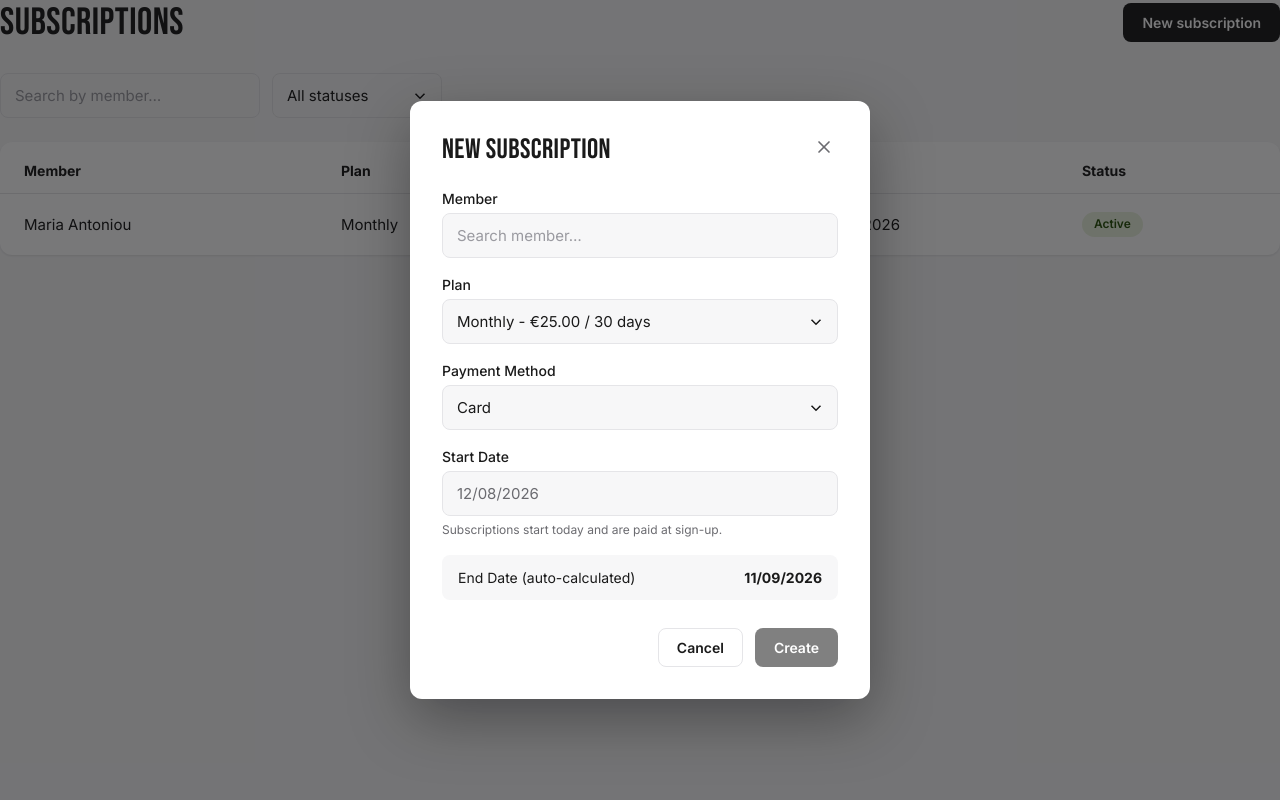
Test: New Subscription flow › blocks a second active subscription for a member who already has one
Type "Maria" into the dropdown labelled "Member" at (640, 236), box [442, 213, 838, 258]
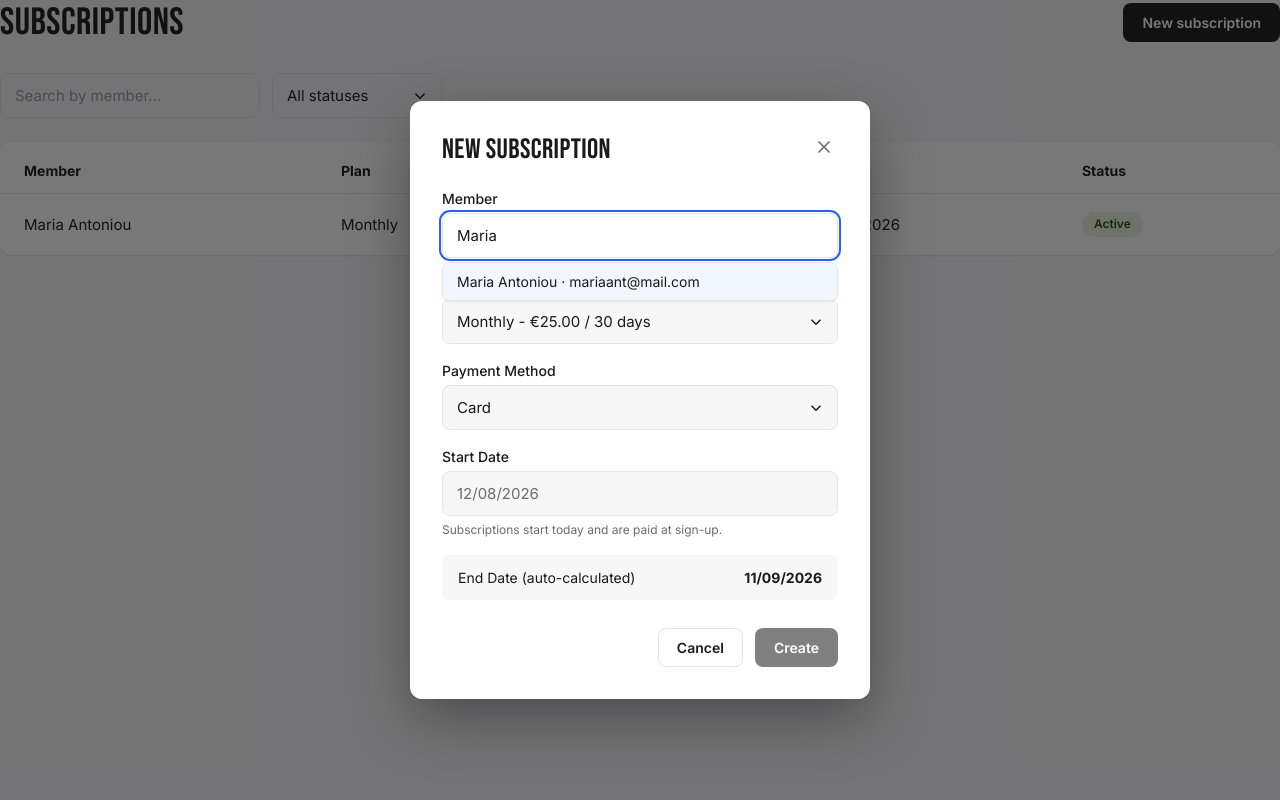
Click the option "Maria Antoniou · mariaant@mail.com" at (640, 282), box [443, 263, 837, 300]
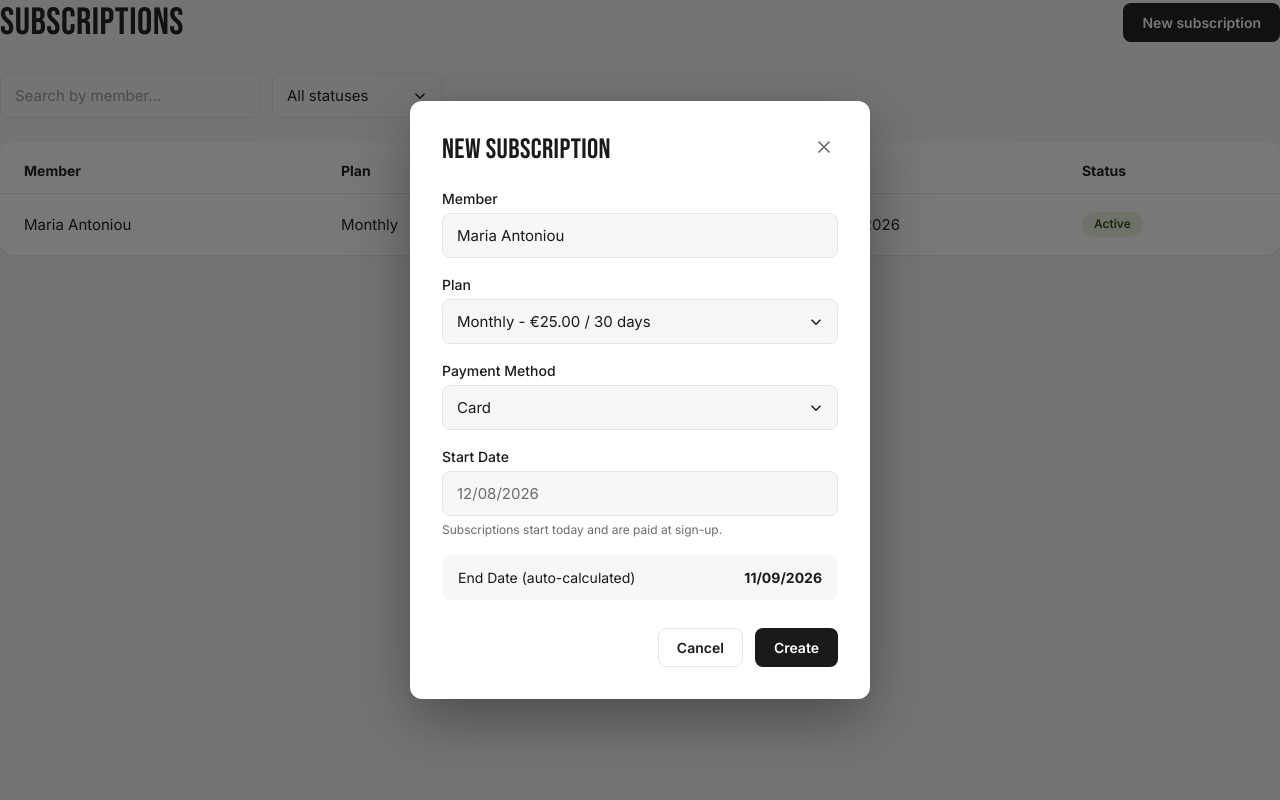
Click the button "Create" at (796, 648), box [755, 628, 838, 667]
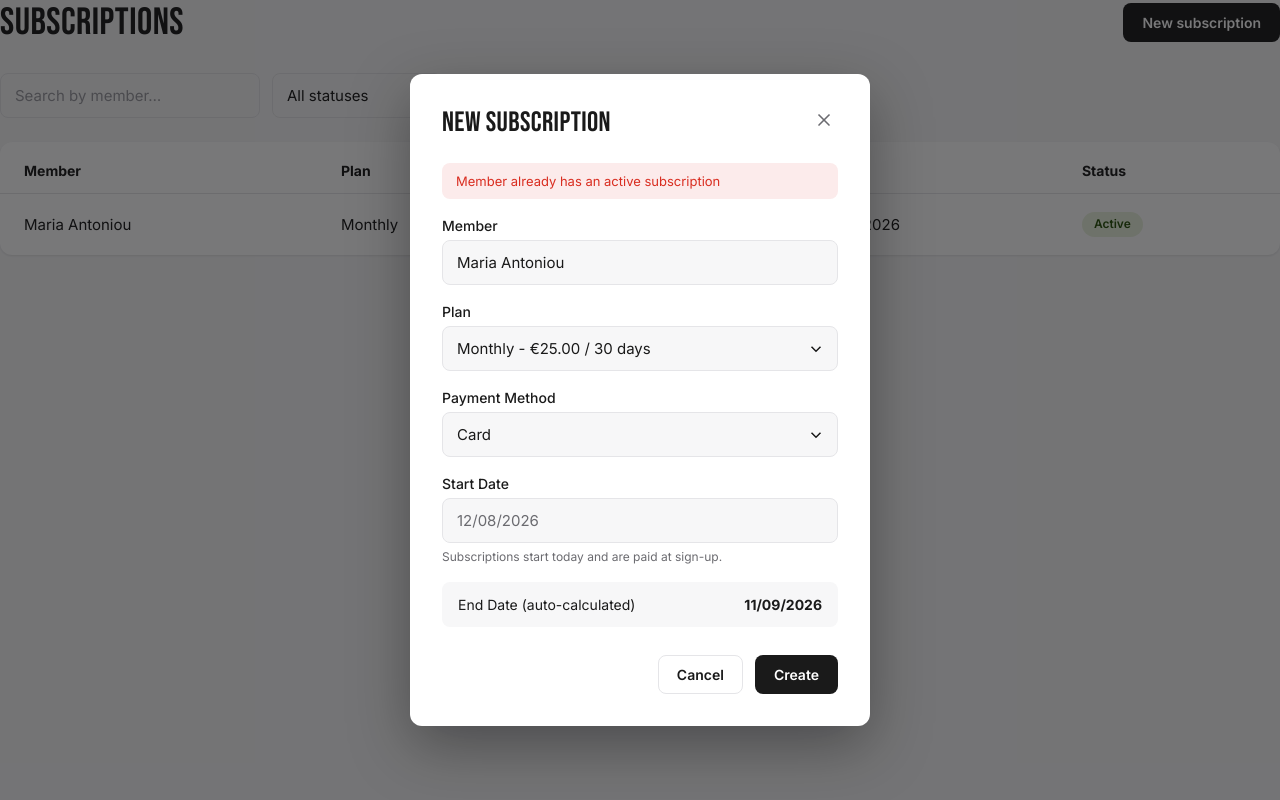
Expected: the text "Member already has an active subscription" is shown, [442, 163, 838, 199]
